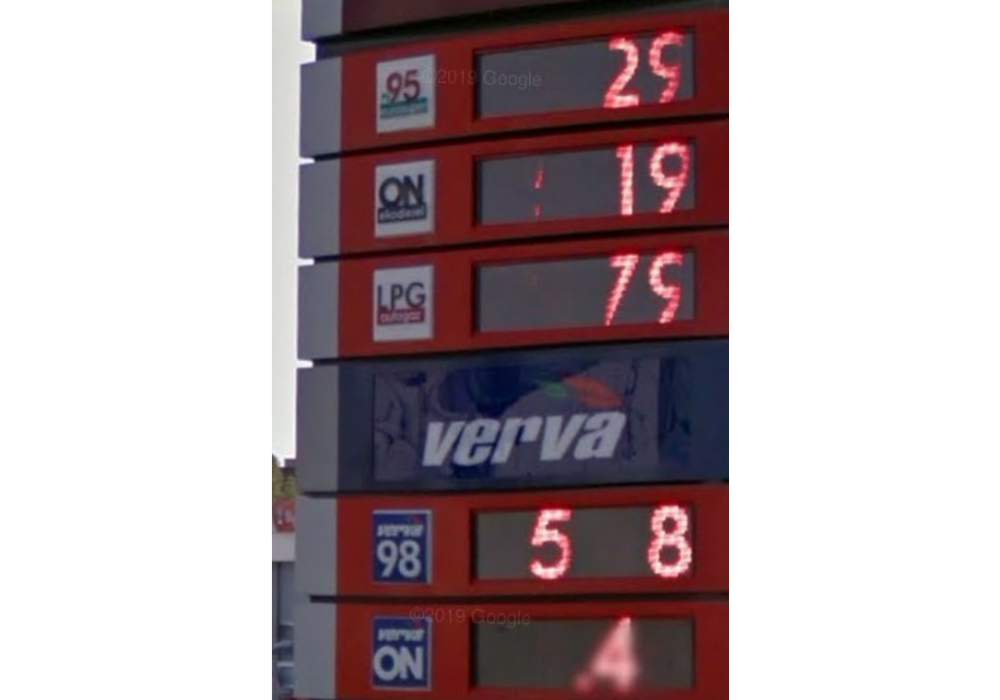LPG: (367, 262, 432, 341)
ON: (371, 154, 434, 236), (371, 611, 430, 691)
PB95: (373, 54, 434, 133)
PB98: (370, 507, 431, 582)
